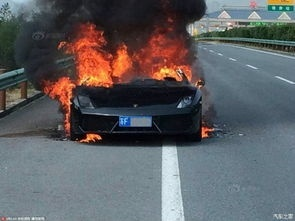fire: (48, 20, 204, 139)
